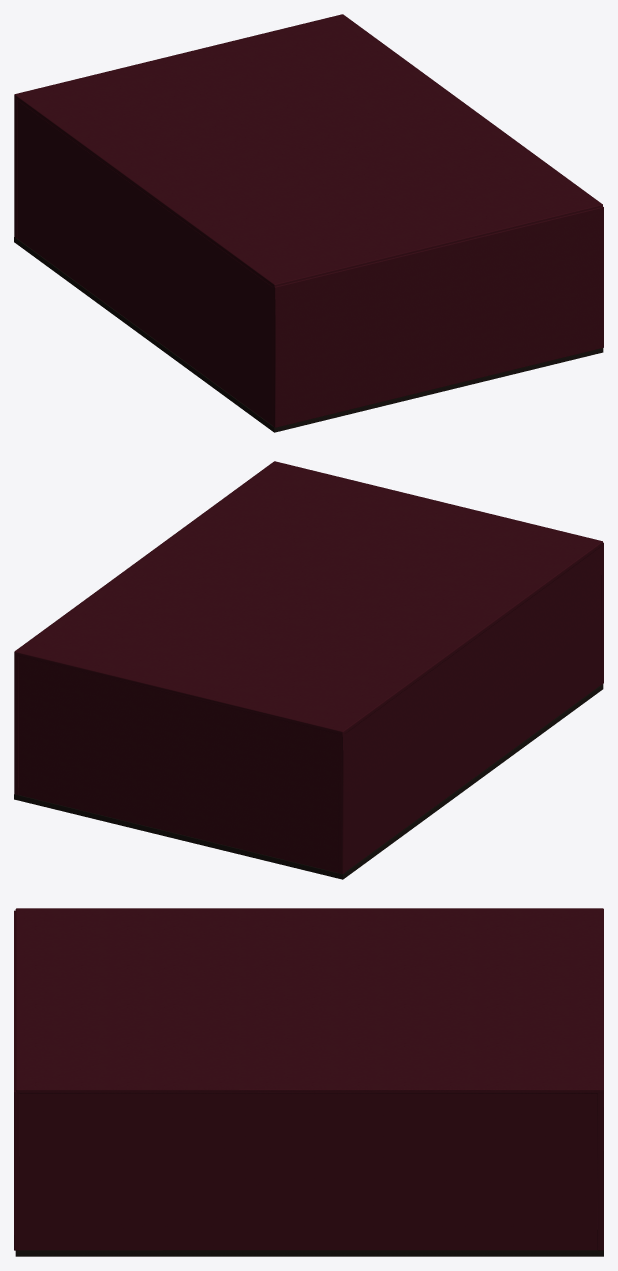
The model's file is private_cinema.glb.
3 renders of one model, top to bottom at view 1: azimuth 30°, elevation 25°; view 2: azimuth 150°, elevation 25°; view 3: azimuth 270°, elevation 25°, orthographic. The views are drawn at different scales.
Parts seen in each view (by area): view 1: Charcoal Acoustic Fabric geometry, Charcoal Carpet geometry; view 2: Charcoal Acoustic Fabric geometry, Charcoal Carpet geometry; view 3: Charcoal Acoustic Fabric geometry, Charcoal Carpet geometry.
Part boxes in pixels (box(x1,y1,x2,y2)): Charcoal Acoustic Fabric geometry: box(14, 14, 603, 427); Charcoal Carpet geometry: box(14, 237, 603, 432); Charcoal Acoustic Fabric geometry: box(14, 461, 603, 874); Charcoal Carpet geometry: box(14, 684, 603, 879); Charcoal Acoustic Fabric geometry: box(14, 908, 603, 1250); Charcoal Carpet geometry: box(15, 1250, 603, 1256).
Bounding box in the file's own units: 18.6 × 8 × 25.57.
7 materials, 5 textured.
